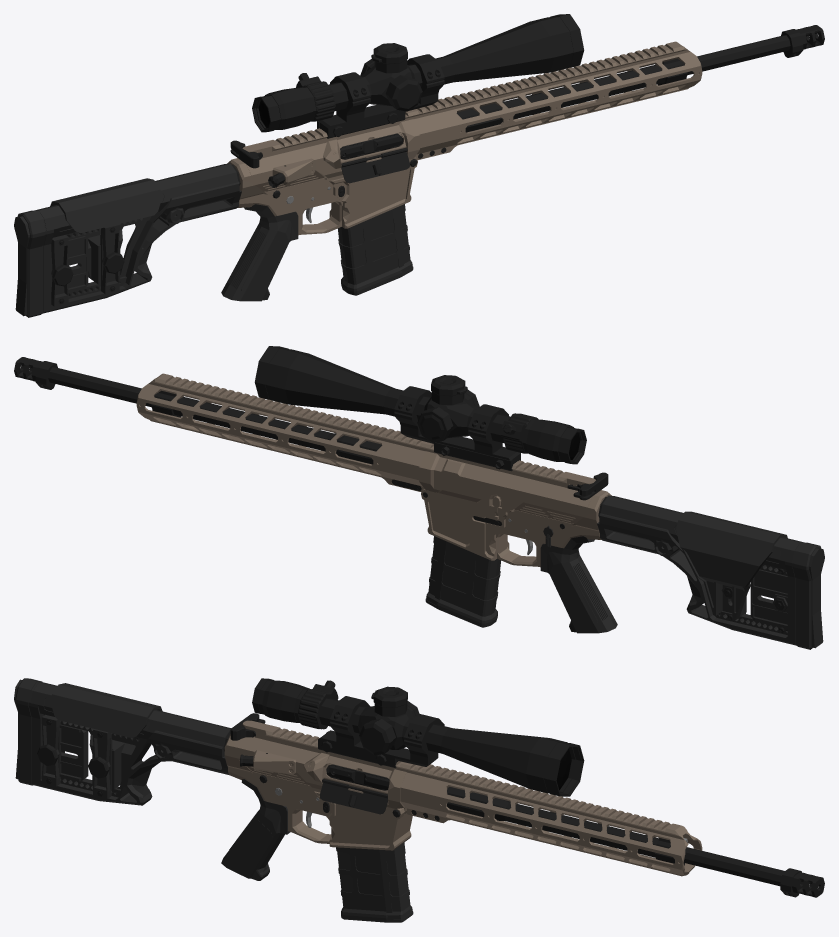
Rendered from w_dmr.glb.
3 renders of one model, top to bottom at view 1: azimuth 30°, elevation 25°; view 2: azimuth 150°, elevation 25°; view 3: azimuth 330°, elevation 25°, orthographic.
Visible parts, largest first — view 1: uar10 scope_15, uar10 handguard_10, uar10 stock_16, uar10 lower_11, uar10 upper_20, 76251 ar10 20rnd mag empty (pmag)_2, uar10 stock cheek_18, uar10 barrel_4, uar10 grip_9, uar10 stock butt_17, uar10 dust cover_8, uar10 muzzle device_13 (+1 smaller); view 2: uar10 scope_15, uar10 handguard_10, uar10 stock_16, uar10 upper_20, uar10 lower_11, uar10 stock cheek_18, 76251 ar10 20rnd mag empty (pmag)_2, uar10 stock butt_17, uar10 barrel_4, uar10 grip_9, uar10 muzzle device_13, uar10 charging handle_7; view 3: uar10 scope_15, uar10 handguard_10, uar10 stock_16, uar10 lower_11, uar10 upper_20, 76251 ar10 20rnd mag empty (pmag)_2, uar10 stock cheek_18, uar10 barrel_4, uar10 stock butt_17, uar10 grip_9, uar10 dust cover_8, uar10 muzzle device_13 (+2 smaller).
Boxes of the visible parts, <box> form: uar10 scope_15: <box>252,14,584,138</box>; uar10 handguard_10: <box>411,41,702,160</box>; uar10 stock_16: <box>34,163,241,313</box>; uar10 lower_11: <box>227,157,417,235</box>; uar10 upper_20: <box>242,110,419,191</box>; 76251 ar10 20rnd mag empty (pmag)_2: <box>337,204,413,295</box>; uar10 stock cheek_18: <box>50,178,161,284</box>; uar10 barrel_4: <box>402,35,790,141</box>; uar10 grip_9: <box>221,204,298,301</box>; uar10 stock butt_17: <box>14,210,88,317</box>; uar10 dust cover_8: <box>341,148,409,183</box>; uar10 muzzle device_13: <box>781,25,824,57</box>; uar10 scope_15: <box>254,346,586,471</box>; uar10 handguard_10: <box>136,373,427,492</box>; uar10 stock_16: <box>597,495,804,645</box>; uar10 upper_20: <box>419,442,595,523</box>; uar10 lower_11: <box>421,489,611,567</box>; uar10 stock cheek_18: <box>676,511,787,620</box>; 76251 ar10 20rnd mag empty (pmag)_2: <box>425,536,501,627</box>; uar10 stock butt_17: <box>750,542,824,649</box>; uar10 barrel_4: <box>48,367,382,464</box>; uar10 grip_9: <box>540,536,617,633</box>; uar10 muzzle device_13: <box>14,357,57,389</box>; uar10 charging handle_7: <box>567,472,608,500</box>; uar10 scope_15: <box>252,678,584,796</box>; uar10 handguard_10: <box>400,763,702,876</box>; uar10 stock_16: <box>30,682,231,805</box>; uar10 lower_11: <box>223,732,412,850</box>; uar10 upper_20: <box>233,720,408,814</box>; 76251 ar10 20rnd mag empty (pmag)_2: <box>336,842,413,922</box>; uar10 stock cheek_18: <box>50,683,162,789</box>; uar10 barrel_4: <box>447,787,784,886</box>; uar10 stock butt_17: <box>14,678,88,785</box>; uar10 grip_9: <box>221,779,290,880</box>; uar10 dust cover_8: <box>320,778,387,814</box>; uar10 muzzle device_13: <box>780,868,824,897</box>.
Size of the model in its own units: 10.33 by 2.87 by 0.7936.
